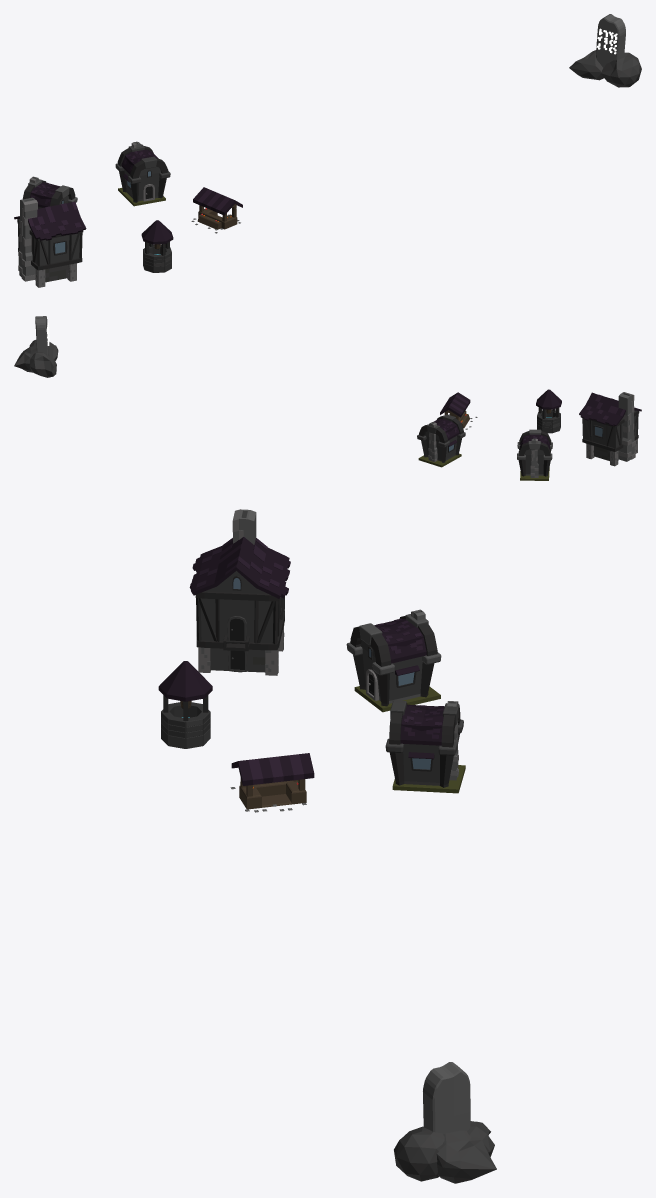
Rendered from Darkspeare.glb.
3 views of the same model, one above another, from view 1: azimuth 30°, elevation 25°; view 2: azimuth 150°, elevation 25°; view 3: azimuth 270°, elevation 25° (orthographic). The views are drawn at different scales.
Parts seen in each view (by area): view 1: House Middle.009, Darkspeare Stele, House .008, Market Stall.009, Well.003, House .007; view 2: House Middle.009, House .008, House .007, Darkspeare Stele, Well.003, Market Stall.009; view 3: House Middle.009, Darkspeare Stele, House .007, House .008, Well.003, Market Stall.009.
Boxes of the visible parts, left/top/right/bottom form: House Middle.009: left=14, top=197, right=86, bottom=287; Darkspeare Stele: left=569, top=14, right=641, bottom=87; House .008: left=115, top=141, right=170, bottom=206; Market Stall.009: left=191, top=187, right=242, bottom=233; Well.003: left=141, top=220, right=173, bottom=272; House .007: left=22, top=176, right=77, bottom=208; House Middle.009: left=579, top=392, right=641, bottom=466; House .008: left=417, top=414, right=465, bottom=467; House .007: left=517, top=429, right=552, bottom=480; Darkspeare Stele: left=14, top=316, right=58, bottom=377; Well.003: left=536, top=389, right=561, bottom=433; Market Stall.009: left=440, top=392, right=477, bottom=429; House Middle.009: left=189, top=509, right=290, bottom=675; Darkspeare Stele: left=394, top=1062, right=496, bottom=1183; House .007: left=346, top=609, right=441, bottom=712; House .008: left=385, top=700, right=465, bottom=793; Well.003: left=158, top=661, right=212, bottom=748; Market Stall.009: left=230, top=753, right=314, bottom=812.
Size of the model in its own units: 8.94 by 1.07 by 2.34.
